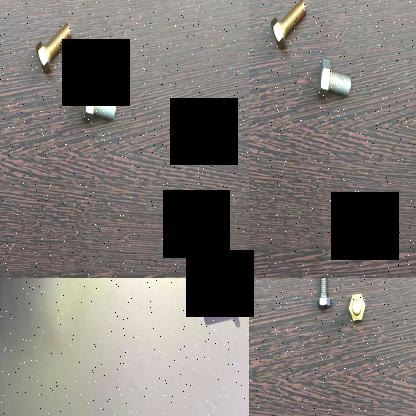Bolts: (32, 16, 72, 79), (314, 51, 354, 111), (269, 0, 309, 56), (80, 75, 118, 128), (194, 280, 230, 316), (346, 290, 368, 324), (312, 278, 330, 309)
